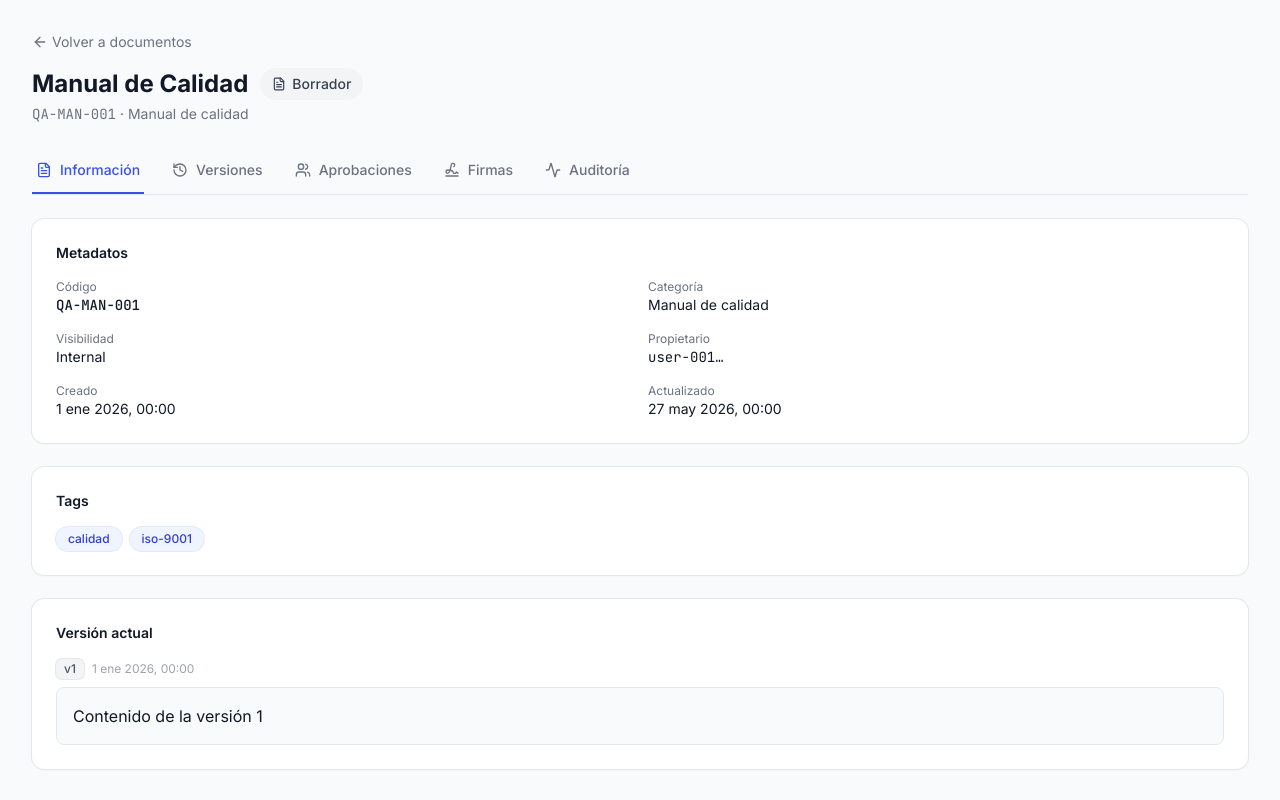
DocumentDetailPage › draft con circuito: muestra botón de enviar a revisión con los pasos del circuito
expect the heading "Manual de Calidad" is shown: met, box [32,68,248,100]
Click the tab "Aprobaciones". click: (353, 171)
box: [291,148,416,194]
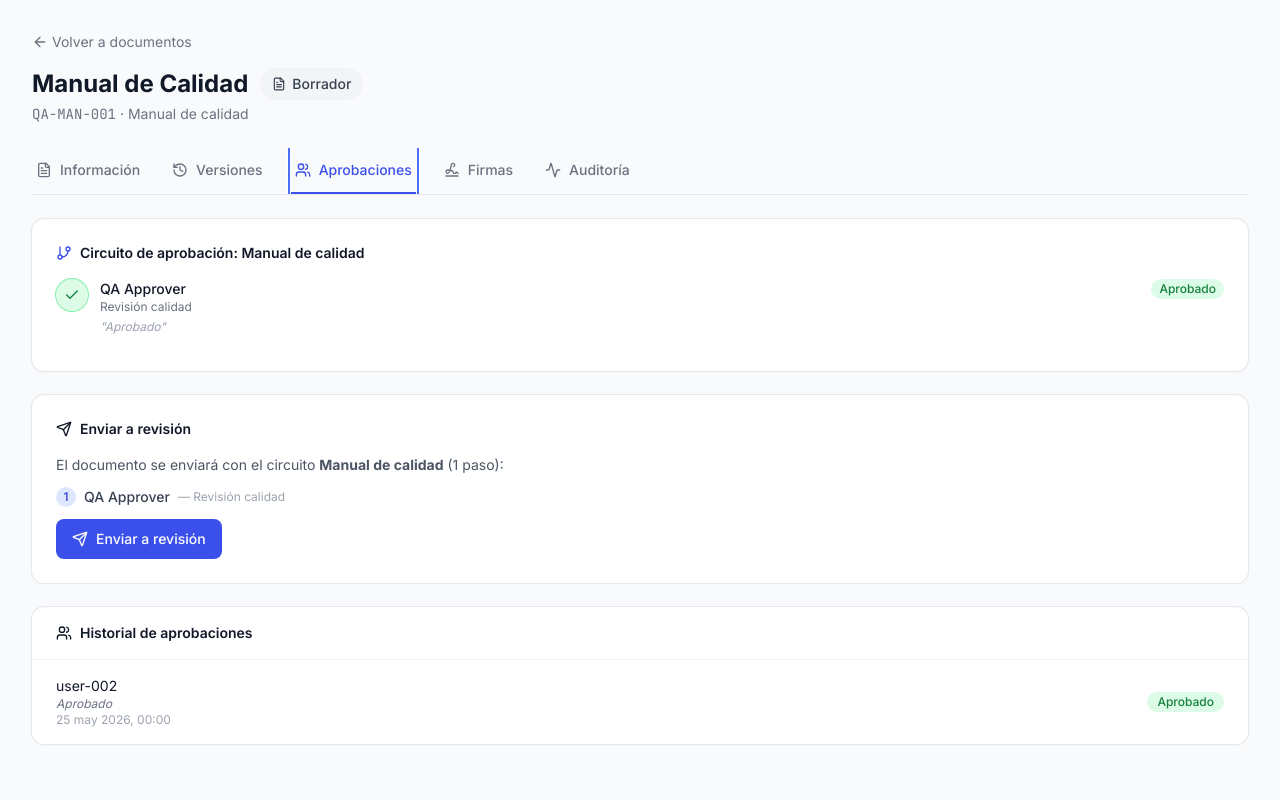
expect the button "Enviar a revisión" is shown: met, box [56,519,222,559]
expect the text "Revisión calidad" is shown: met, box [100,299,192,314]
